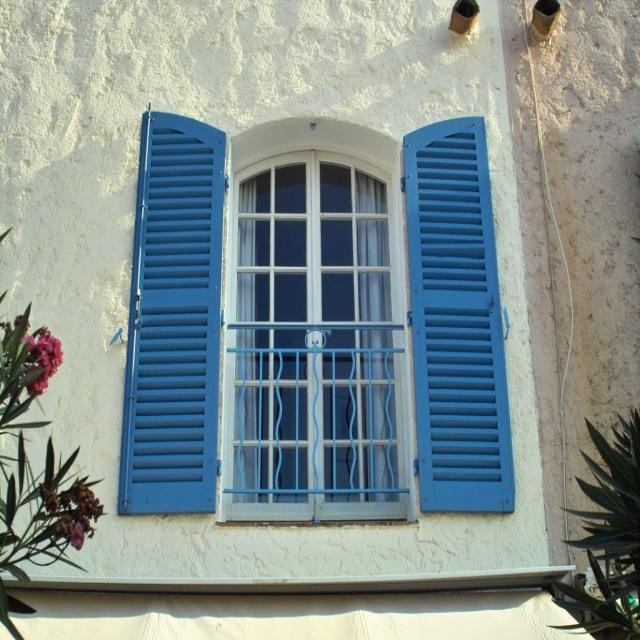window: (230, 130, 404, 500), (399, 114, 522, 520), (121, 108, 216, 513)
